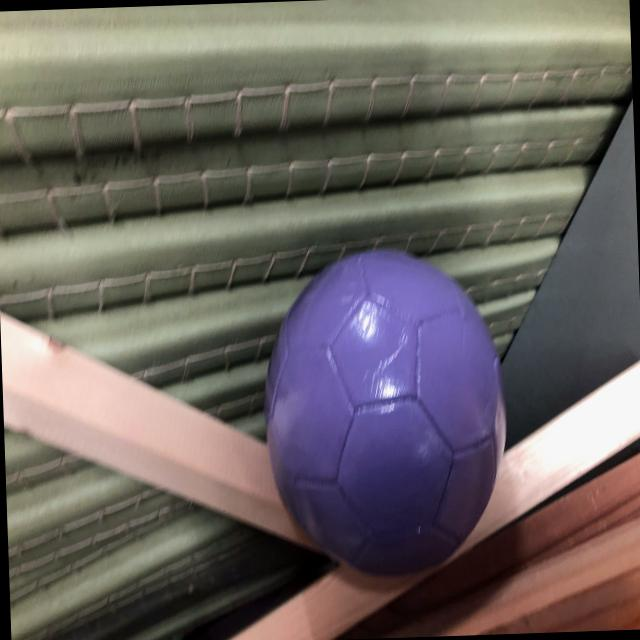purple_ball: (262, 244, 512, 580)
